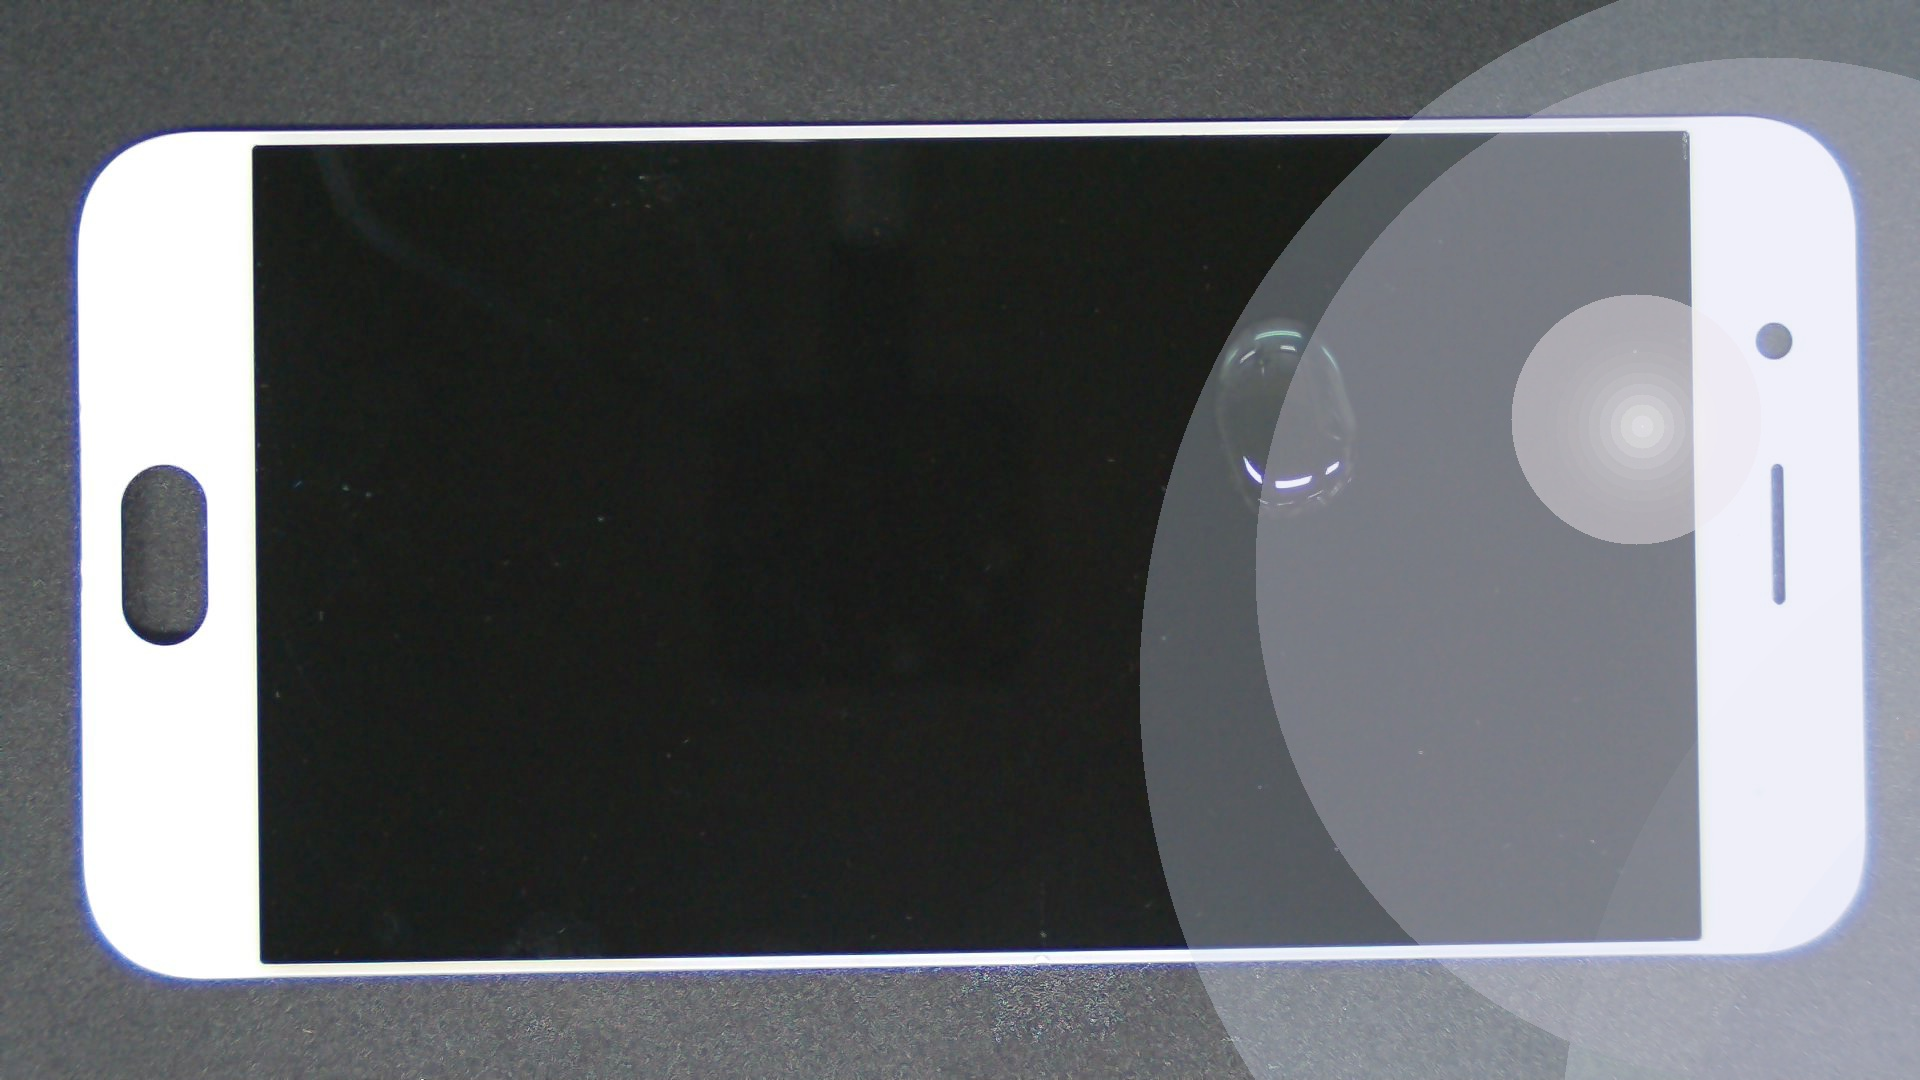oil: (636, 158, 1904, 477)
